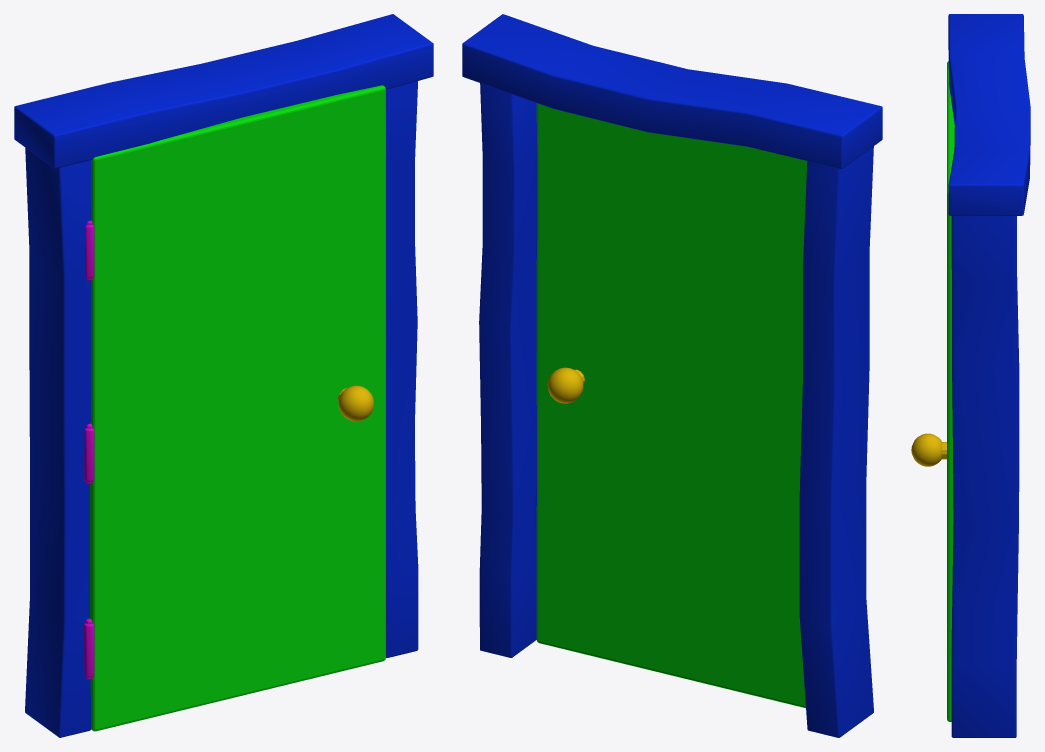
The model's file is door.glb.
3 views of the same model, side by side, from view 1: azimuth 30°, elevation 25°; view 2: azimuth 150°, elevation 25°; view 3: azimuth 270°, elevation 25° (orthographic). The views are drawn at different scales.
Parts seen in each view (by area): view 1: Door, DoorFrame; view 2: Door, DoorFrame; view 3: DoorFrame, Door.
Part boxes in pixels (bbox=[...]): Door: bbox=[90, 85, 385, 731]; DoorFrame: bbox=[14, 14, 433, 737]; Door: bbox=[536, 103, 807, 708]; DoorFrame: bbox=[462, 14, 882, 737]; DoorFrame: bbox=[948, 14, 1030, 737]; Door: bbox=[911, 61, 954, 721].
Size of the model in its own units: 1.38 by 2.11 by 0.4073.
